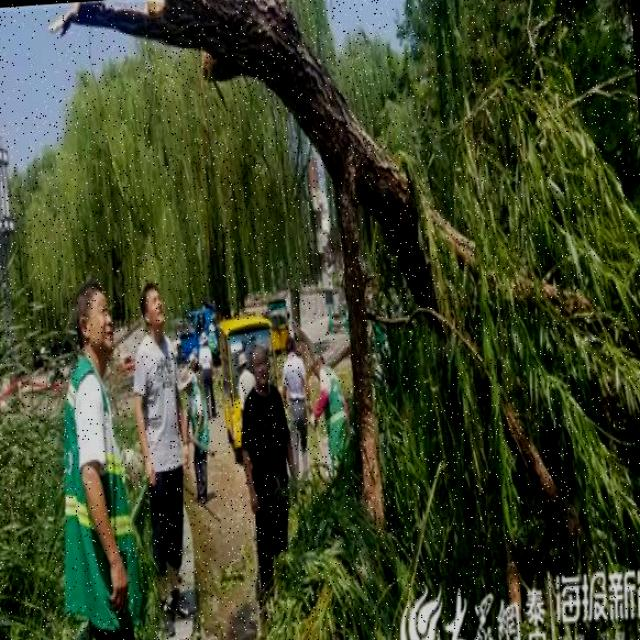fallen_object: (45, 0, 640, 586)
